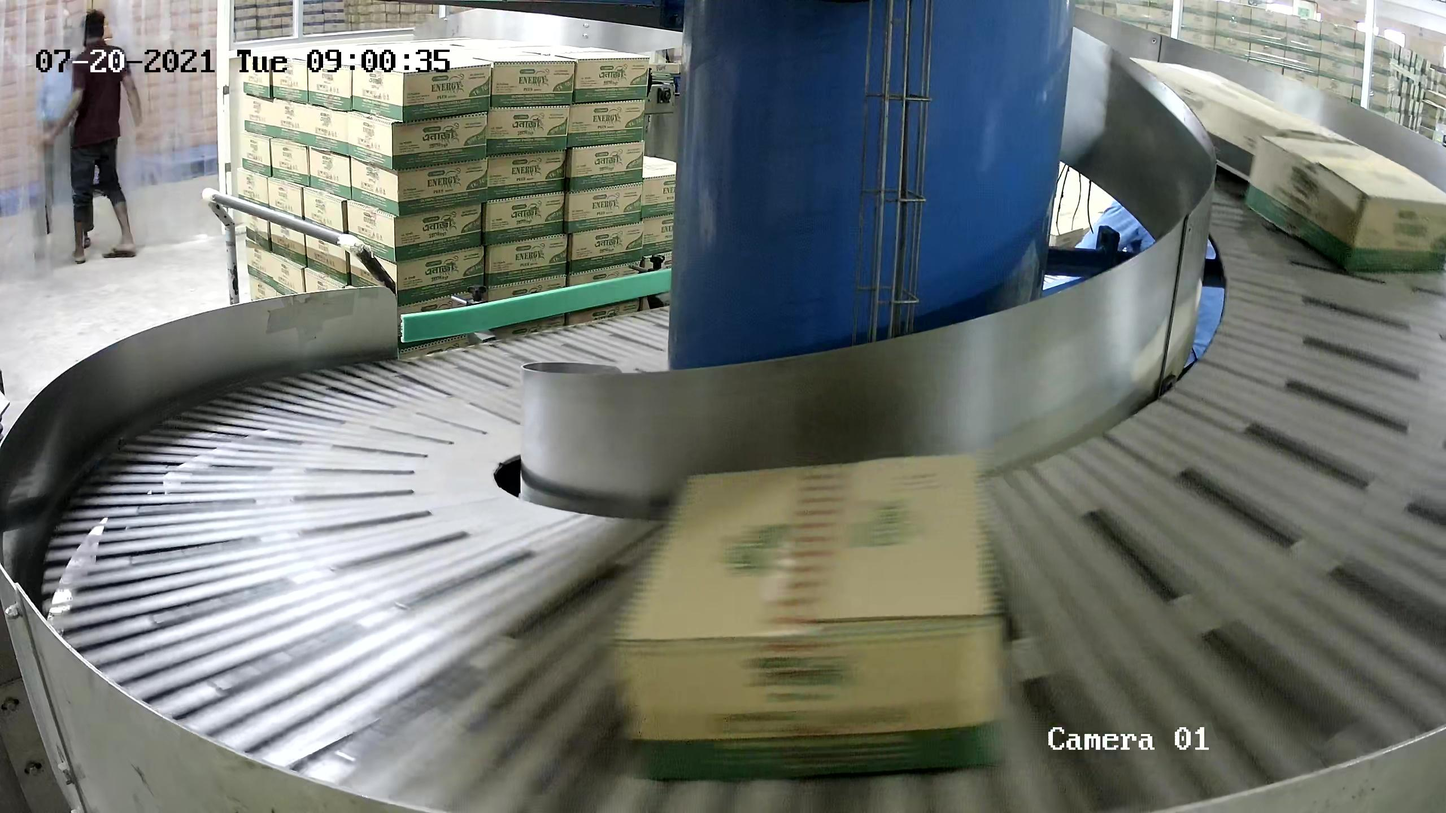Box: (607, 450, 1014, 783), (1126, 56, 1372, 182), (1242, 131, 1446, 275)
